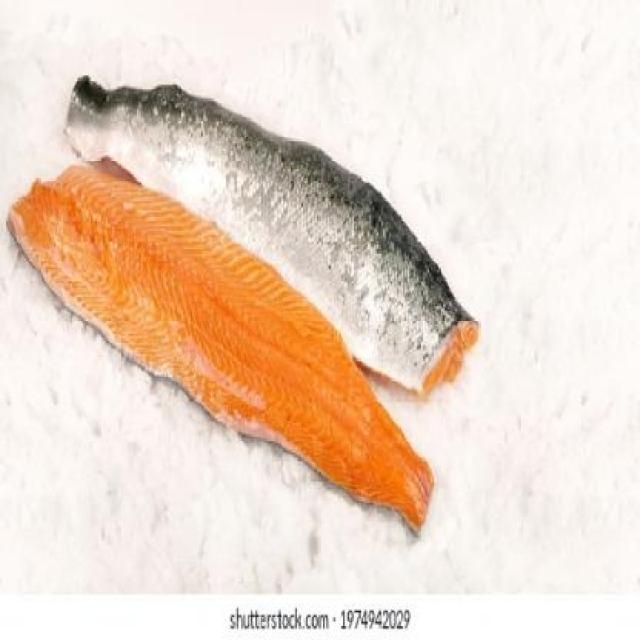salmon: (4, 149, 480, 547)
